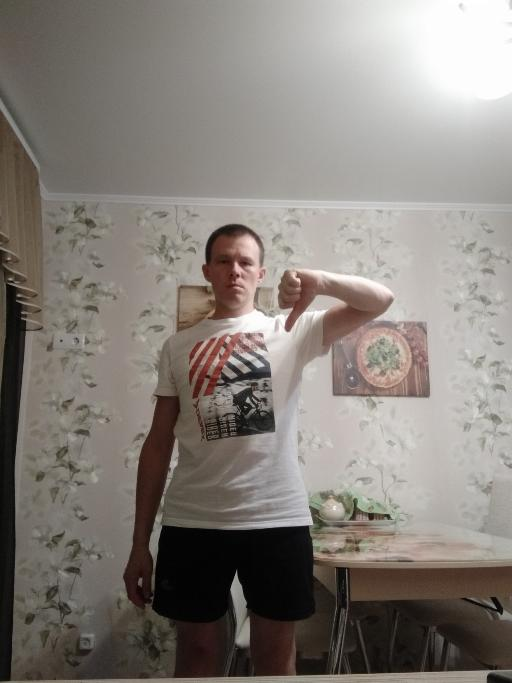dislike: (275, 266, 320, 333)
no_gesture: (121, 547, 155, 610)
